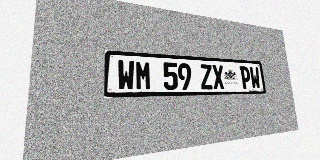5: (163, 62, 178, 90)
9: (177, 63, 192, 90)
M: (135, 61, 152, 90)
P: (239, 66, 252, 89)
W: (117, 60, 135, 91), (249, 67, 261, 89)
X: (212, 65, 225, 89)
Z: (199, 64, 213, 90)
